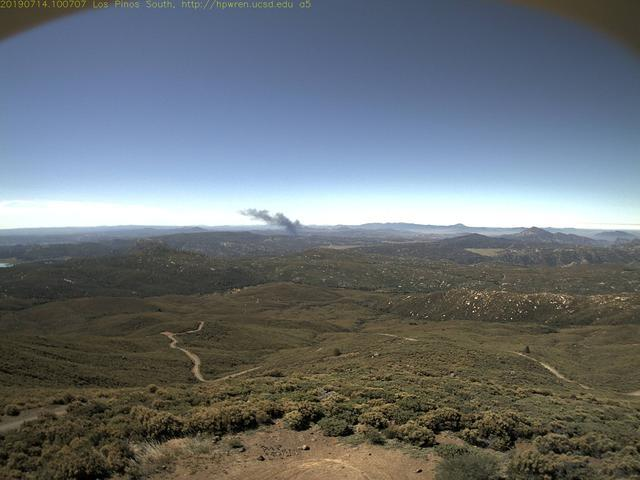smoke: (235, 205, 315, 246)
